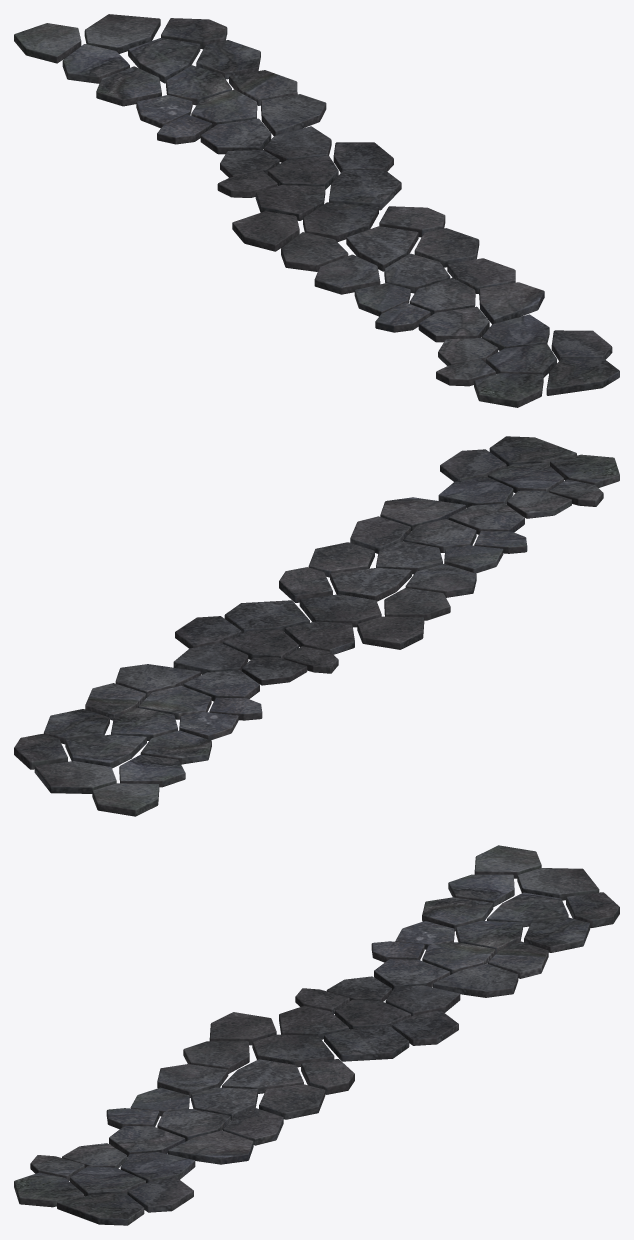
File: Stone Path_001.obj
The picture shows the model from 3 angles, top to bottom: view 1: azimuth 30°, elevation 25°; view 2: azimuth 150°, elevation 25°; view 3: azimuth 330°, elevation 25°; orthographic projection. The views are drawn at different scales.
Visible parts, largest first — view 1: Stone_Path.001; view 2: Stone_Path.001; view 3: Stone_Path.001.
Boxes of the visible parts, box(x1,y1,x2,y2) form: Stone_Path.001: box(14, 14, 619, 407); Stone_Path.001: box(14, 436, 619, 816); Stone_Path.001: box(14, 845, 619, 1225).
Bounding box in the file's own units: 2.03 × 0.0881 × 8.77.
1 material, 1 textured.
